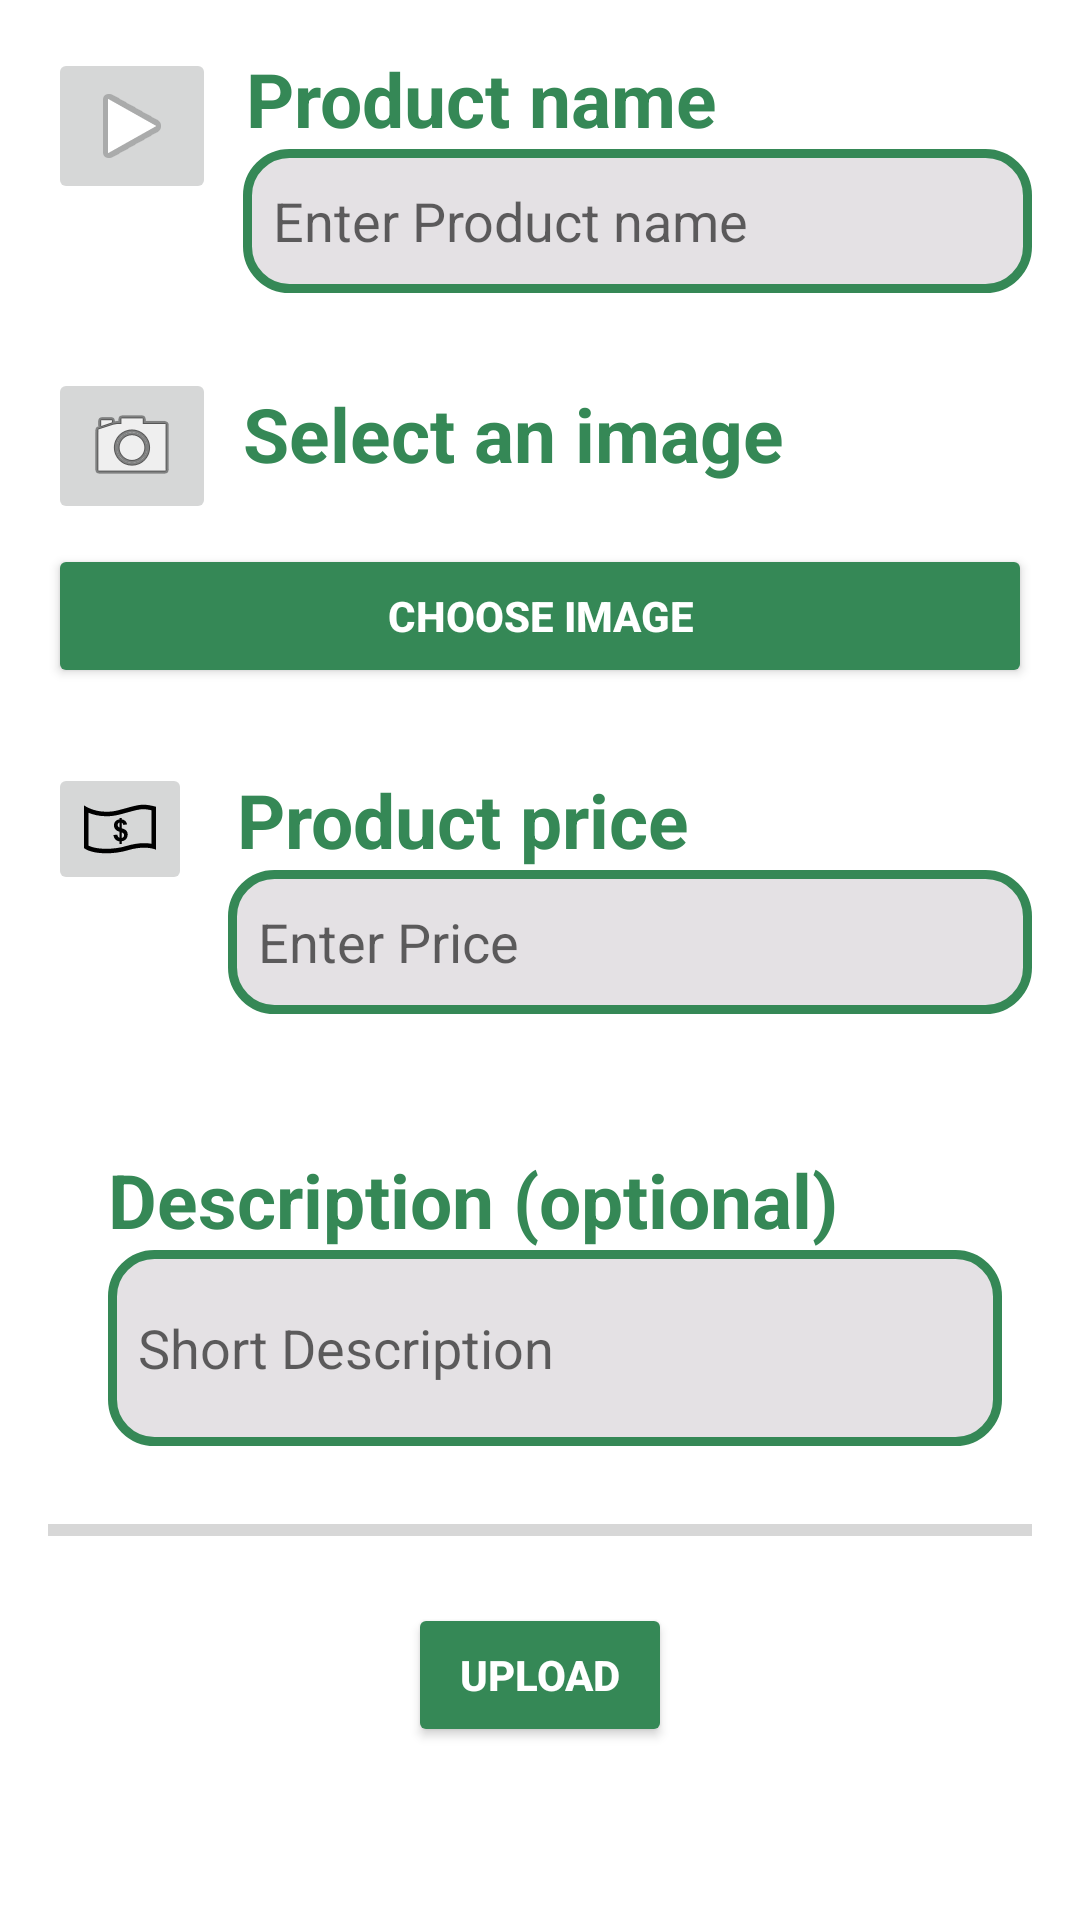

Screen size 1080x1920. Icon name, then its box in pixels as {"left": x1, "top": y1, "right": x2, "bottom": y2}:
camera: {"left": 60, "top": 386, "right": 204, "bottom": 506}
play: {"left": 60, "top": 66, "right": 204, "bottom": 186}
